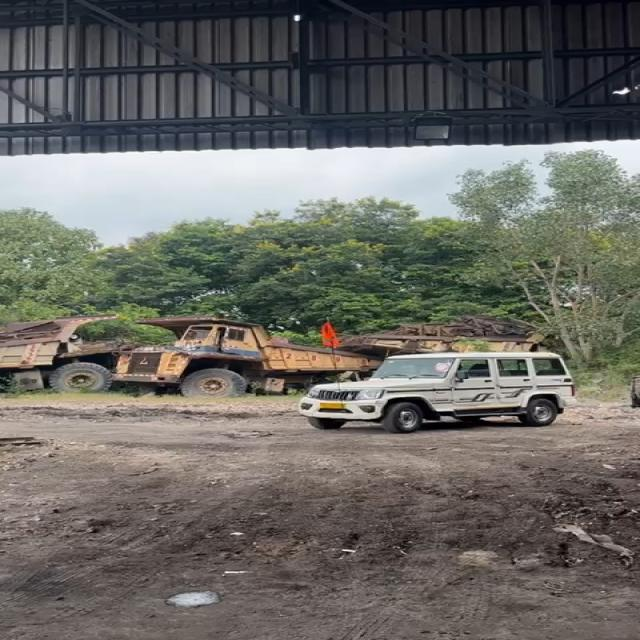dump_truck: (111, 317, 313, 398)
light_vehicle: (298, 348, 576, 424)
